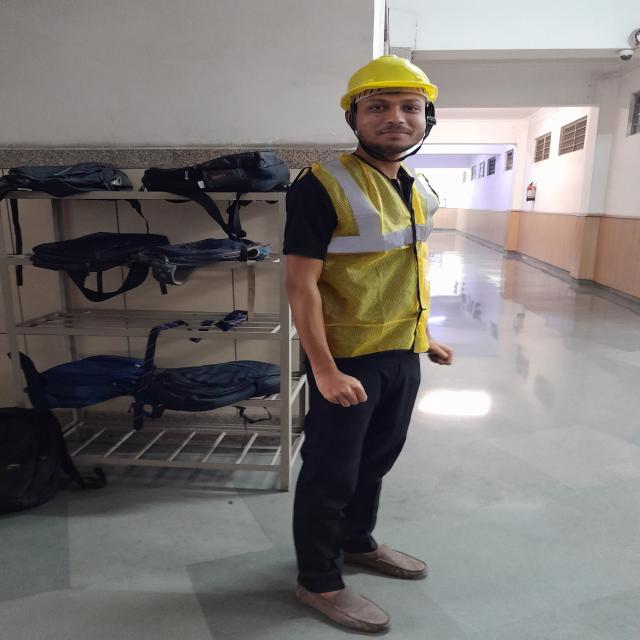safe: (283, 56, 440, 631)
